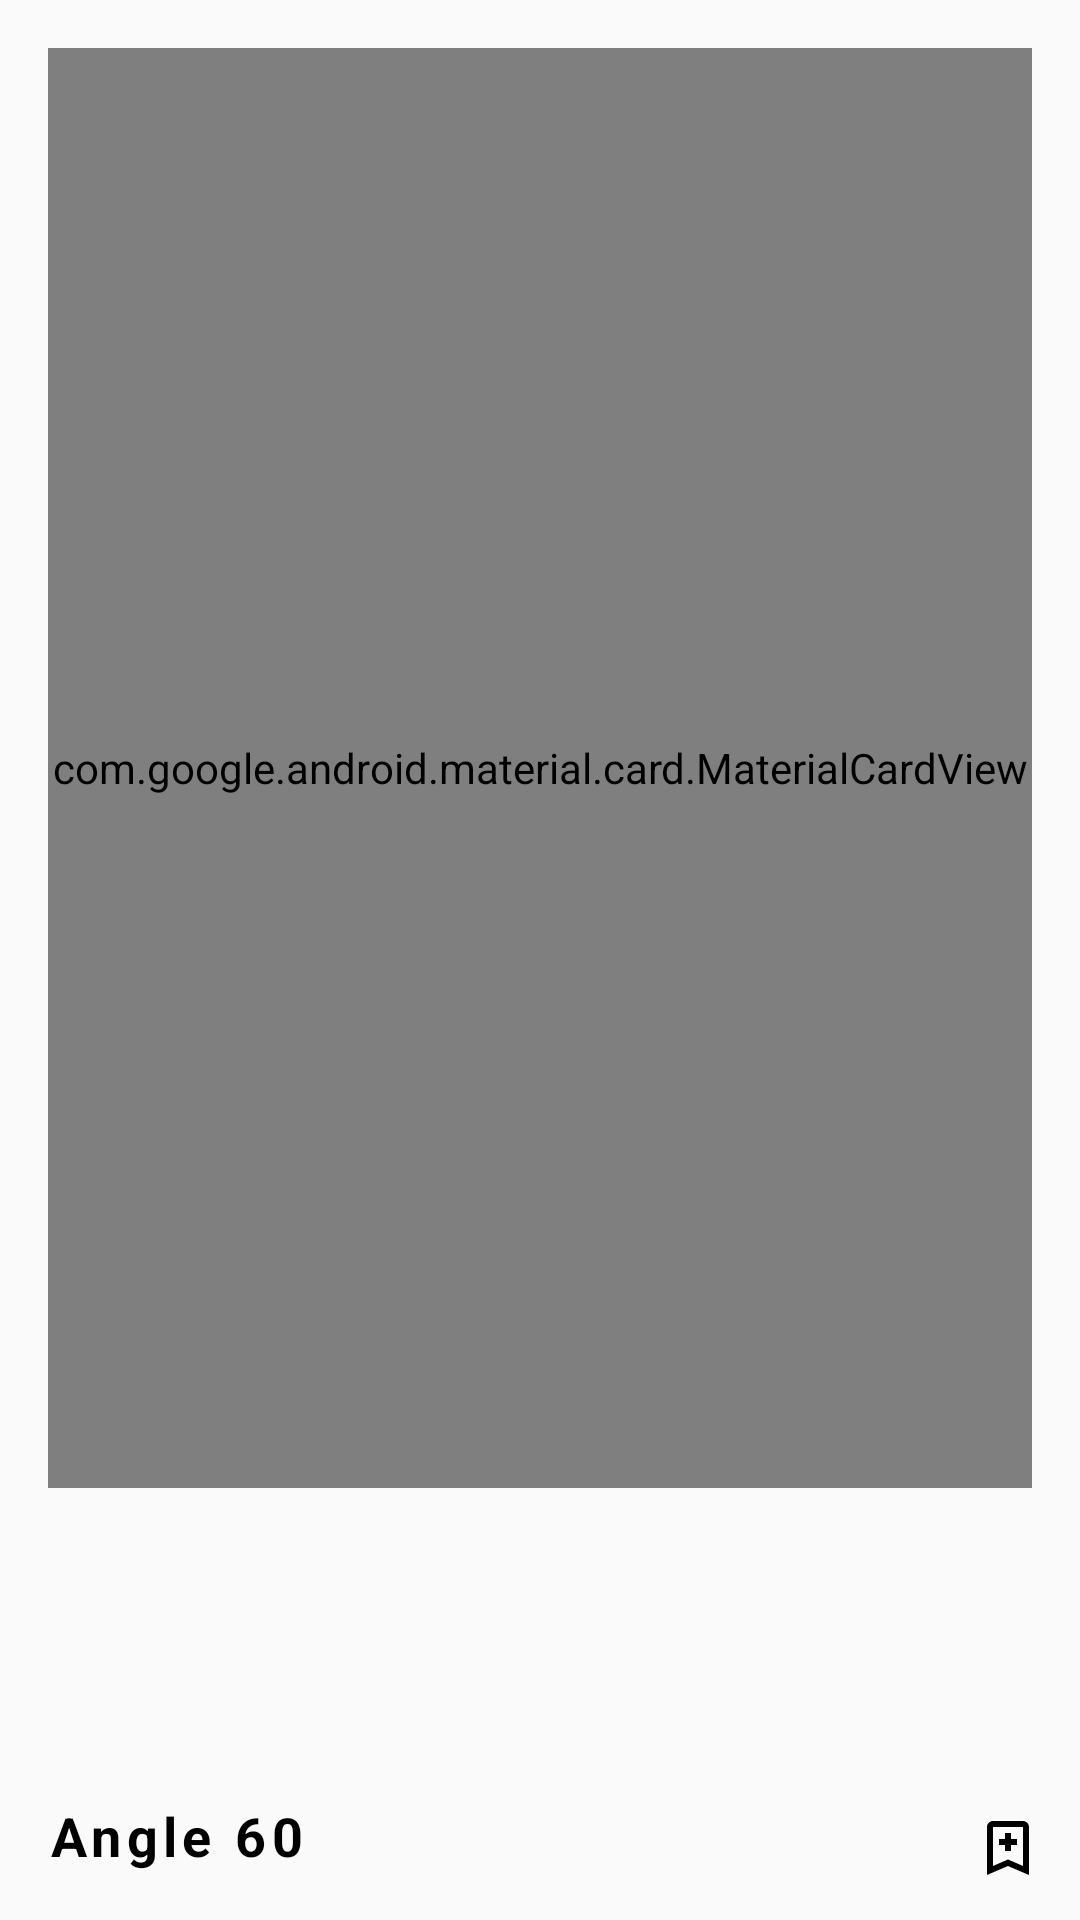

Point at icon controls on the screen. Image size 1080*1920, points as (x=x, y=y).
bookmark: (x=1008, y=1848)
